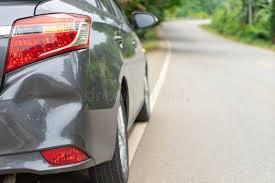dent: (6, 67, 92, 153)
